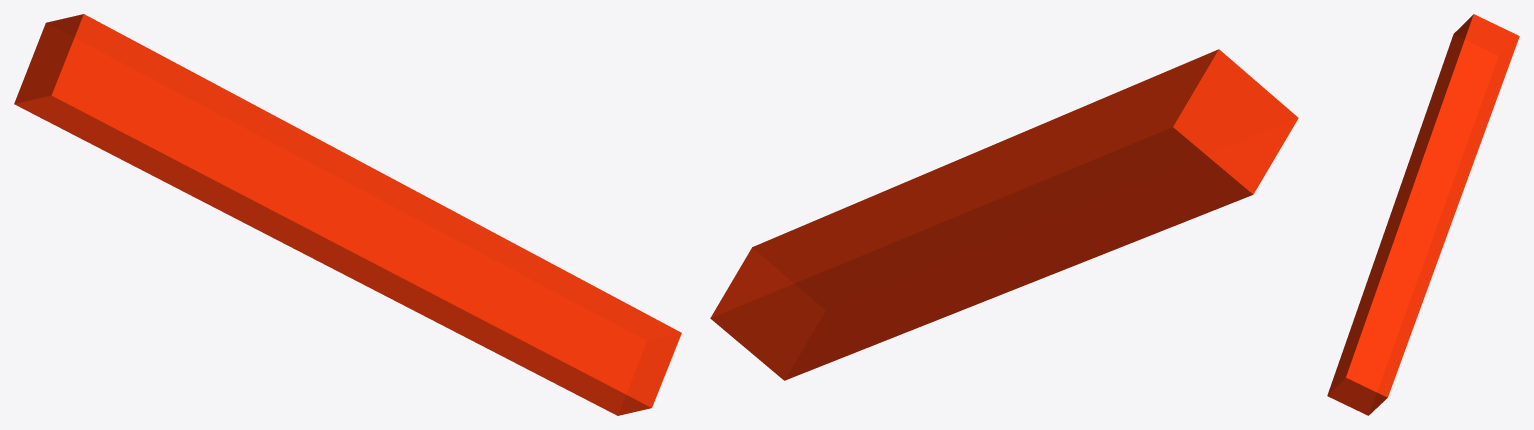
File: Event_420604493_EBrechit_9.fbx
3 renders of one model, left to right at view 1: azimuth 30°, elevation 25°; view 2: azimuth 150°, elevation 25°; view 3: azimuth 270°, elevation 25°, orthographic. The views are drawn at different scales.
Visible parts, largest first — view 1: Model; view 2: Model; view 3: Model.
Part boxes in pixels (box(x1,y1,x2,y2)): Model: box(14, 14, 681, 415); Model: box(710, 49, 1298, 380); Model: box(1327, 14, 1519, 415).
Size of the model in its own units: 0.4459 by 0.3521 by 0.2274.
